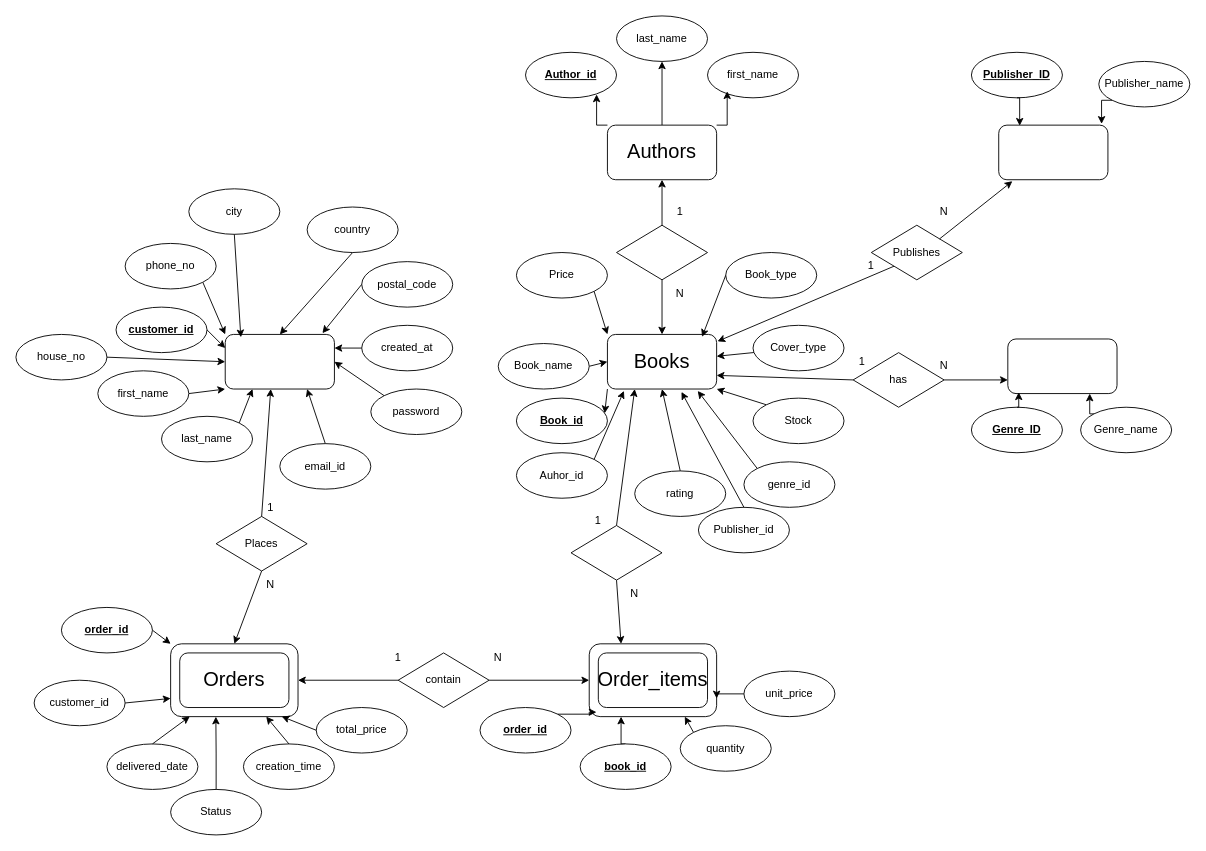
Image size: 1206x851. Some labels were removed from this diagram. The shapes that lost their labels are listed below. From the top down, each one's centre as x and y in pixels, then its label:
point (1053, 152): Publishers
point (662, 252): Writes
point (279, 361): Customers
point (1062, 366): Genre
point (616, 552): Chosen_in
